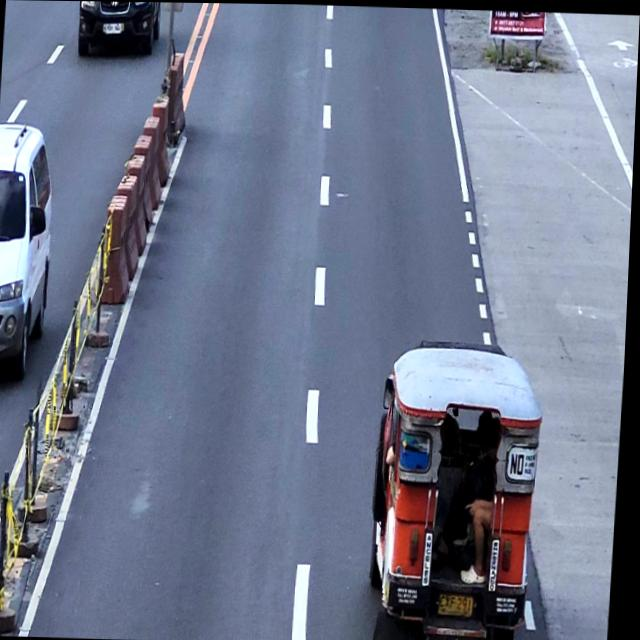Car: (0, 120, 59, 379), (76, 1, 161, 57)
Jeep: (369, 336, 549, 640)
License-Plate: (441, 589, 480, 616), (104, 23, 121, 33)
